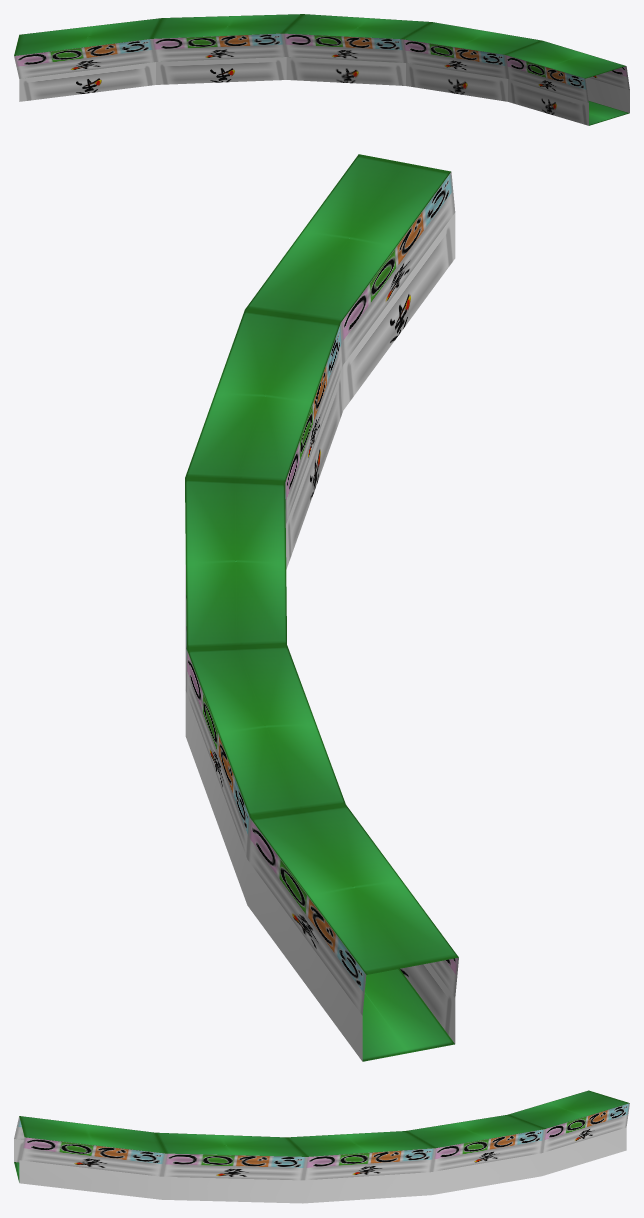
File: CourseSummer_Wall_R_9.fbx
The picture shows the model from 3 angles, top to bottom: view 1: azimuth 30°, elevation 25°; view 2: azimuth 150°, elevation 25°; view 3: azimuth 270°, elevation 25°; orthographic projection. The views are drawn at different scales.
Parts seen in each view (by area): view 1: polySurface100; view 2: polySurface100; view 3: polySurface100.
Part boxes in pixels (x1,y1,x2,y2): polySurface100: (14,14,629,125); polySurface100: (185,154,458,1061); polySurface100: (14,1090,629,1203).
Size of the model in its own units: 15.11 by 6.98 by 24.2.
1 material, 1 textured.
